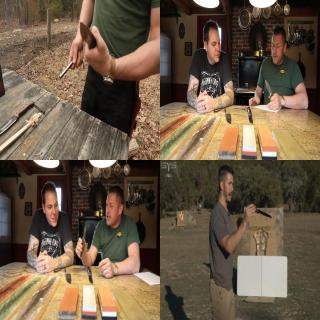knife: (78, 17, 103, 65), (263, 75, 279, 109), (76, 215, 88, 255), (247, 201, 273, 219)
